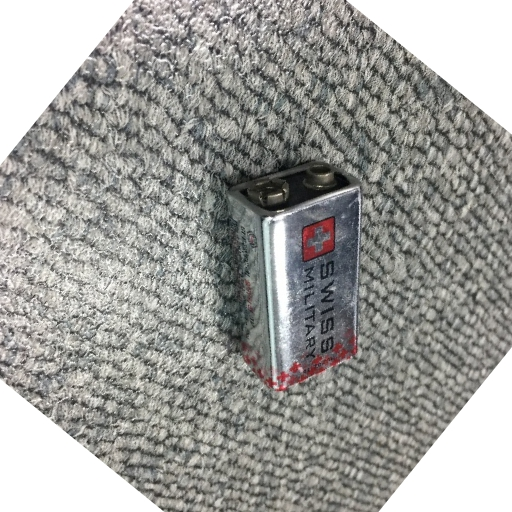Battery_3: (207, 131, 377, 409)
